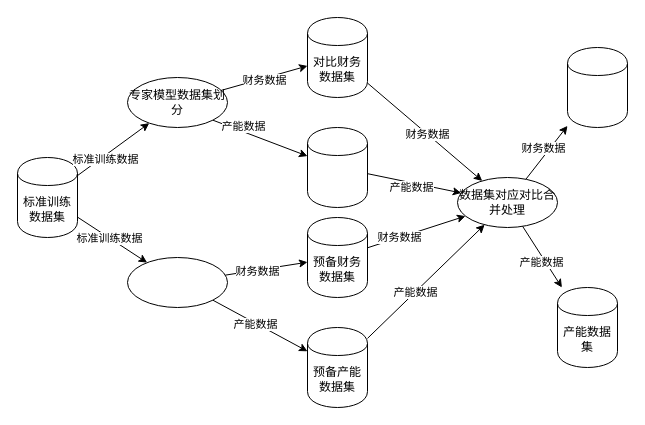
The diagram is 645 pixels wide and 425 high, and some of its shapes have lost their labels. Each missing label, with the box of its shape:
决策树数据集划分: (126, 256, 228, 308)
对比产能数据集: (306, 126, 368, 208)
财务数据集: (566, 46, 628, 128)
